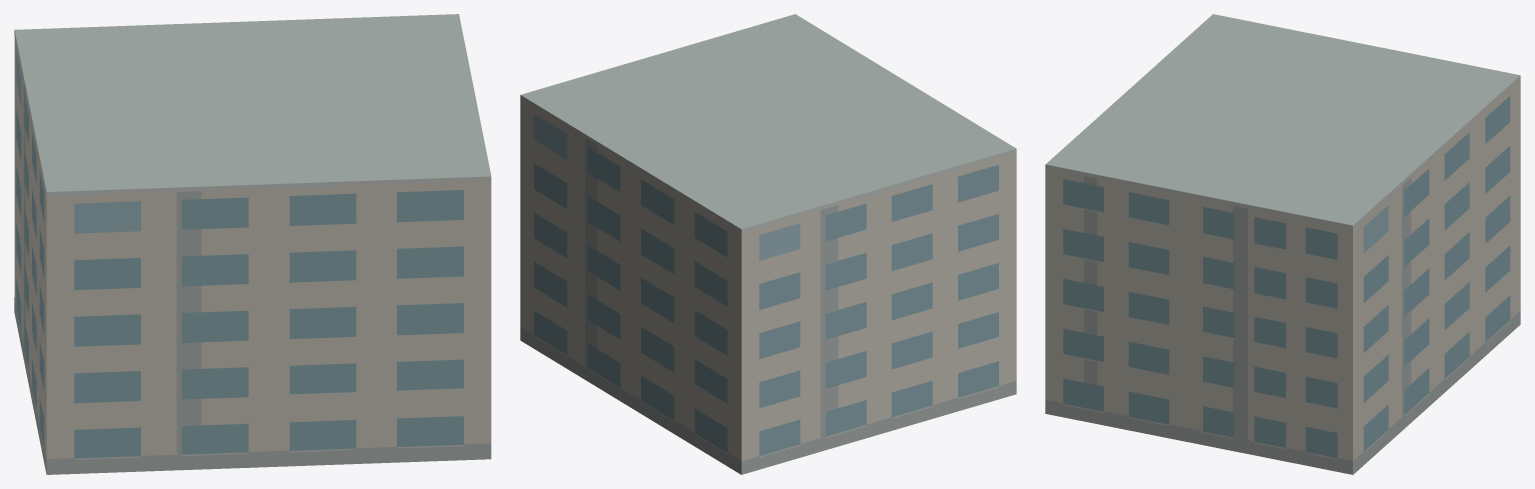
Rendered from residential-e7a49042-5fb6-4362-b047-1def056d9845.glb.
The picture shows the model from 3 angles, left to right: view 1: azimuth 30°, elevation 25°; view 2: azimuth 150°, elevation 25°; view 3: azimuth 270°, elevation 25°; orthographic projection. The views are drawn at different scales.
Parts seen in each view (by area): view 1: residential-e7a49042-5fb6-4362-b047-1def056d9845.tmp; view 2: residential-e7a49042-5fb6-4362-b047-1def056d9845.tmp; view 3: residential-e7a49042-5fb6-4362-b047-1def056d9845.tmp.
Boxes of the visible parts, x1,y1,x2,y2 form: residential-e7a49042-5fb6-4362-b047-1def056d9845.tmp: [14, 14, 491, 474]; residential-e7a49042-5fb6-4362-b047-1def056d9845.tmp: [520, 14, 1016, 474]; residential-e7a49042-5fb6-4362-b047-1def056d9845.tmp: [1045, 14, 1520, 474].
Size of the model in its own units: 27.77 by 15.25 by 26.35.
